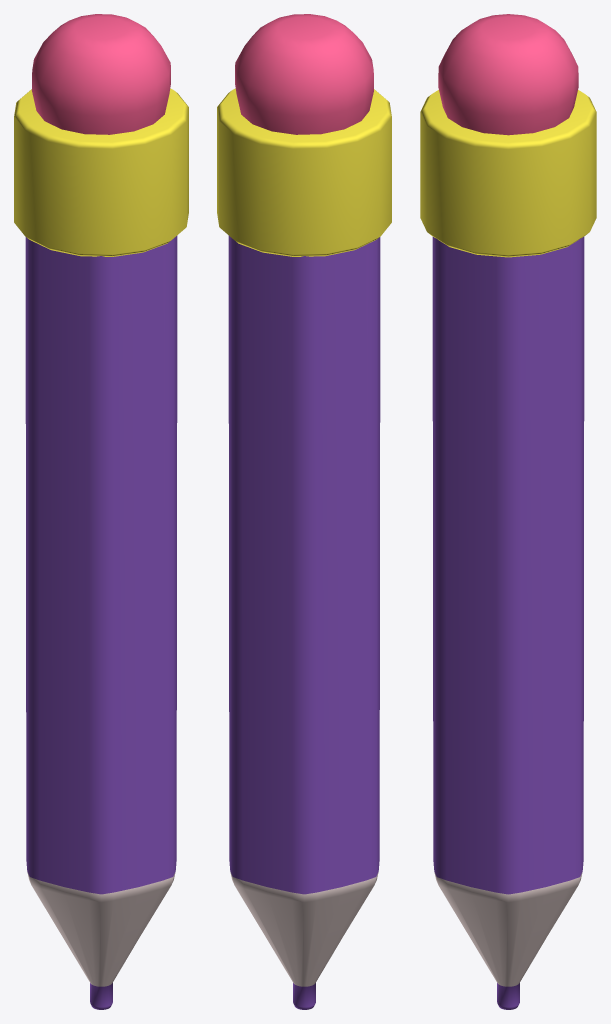
File: Public_2_Pencil_4.glb
3 views of the same model, side by side, from view 1: azimuth 30°, elevation 25°; view 2: azimuth 150°, elevation 25°; view 3: azimuth 270°, elevation 25° (orthographic).
Parts seen in each view (by area): view 1: Public_2_Pencil_4; view 2: Public_2_Pencil_4; view 3: Public_2_Pencil_4.
Boxes of the visible parts, bbox=[...] form: Public_2_Pencil_4: bbox=[14, 14, 188, 1009]; Public_2_Pencil_4: bbox=[217, 14, 391, 1009]; Public_2_Pencil_4: bbox=[420, 14, 596, 1009].
Size of the model in its own units: 0.2801 by 1.72 by 0.2802.
1 material, 1 textured.
